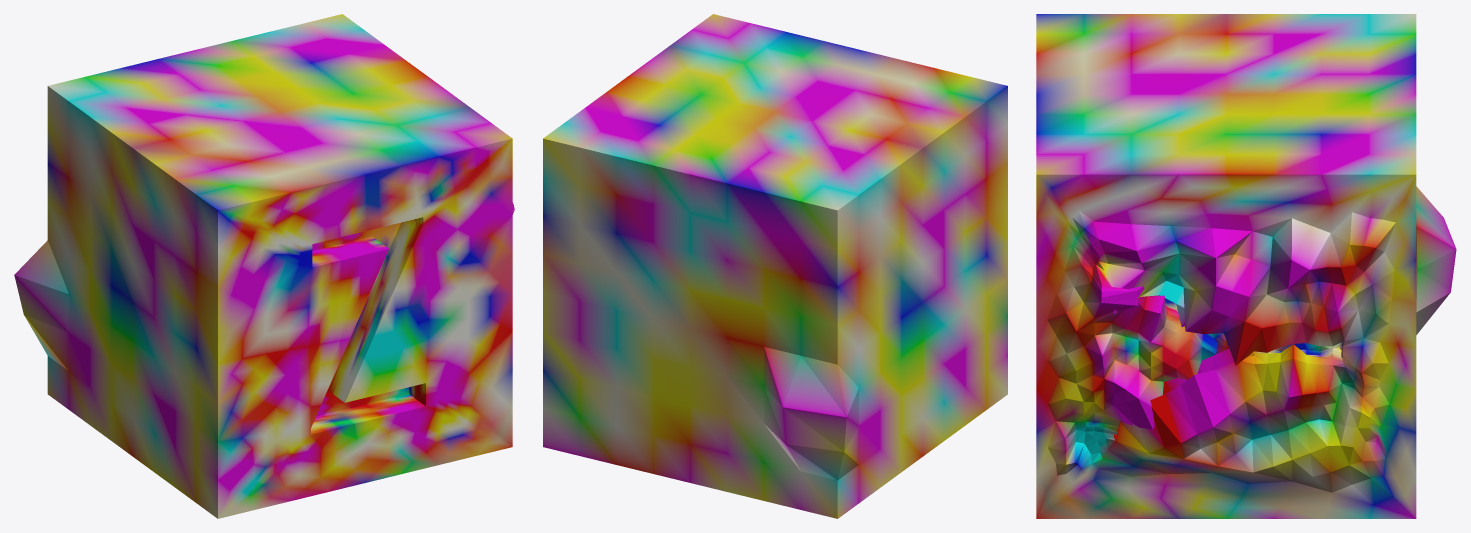
3 views of the same model, side by side, from view 1: azimuth 30°, elevation 25°; view 2: azimuth 150°, elevation 25°; view 3: azimuth 270°, elevation 25° (orthographic). The views are drawn at different scales.
Size of the model in its own units: 1.06 by 0.9009 by 0.9959.
